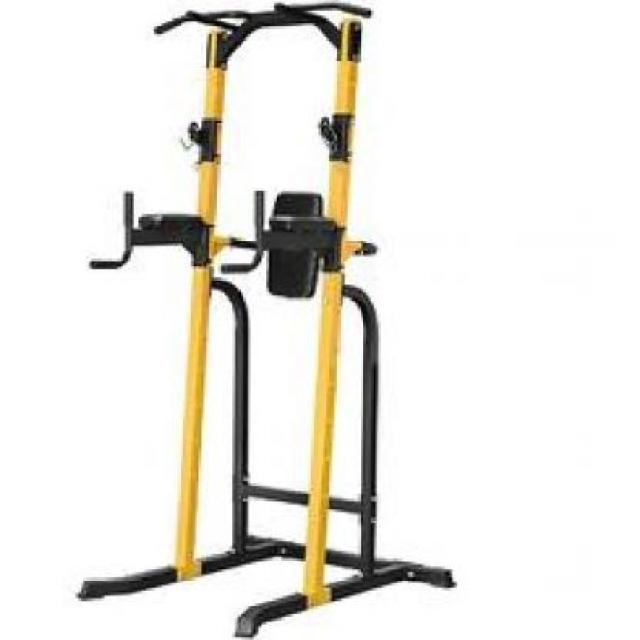chinning dipping: (75, 2, 454, 636)
